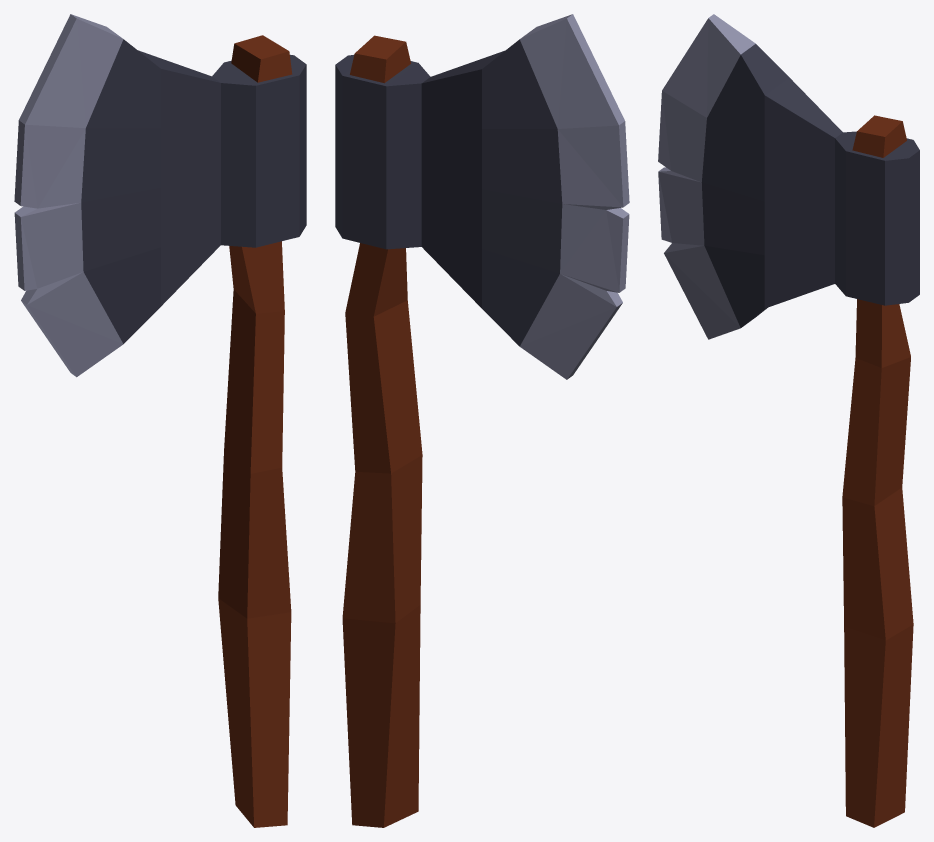
3 views of the same model, side by side, from view 1: azimuth 30°, elevation 25°; view 2: azimuth 150°, elevation 25°; view 3: azimuth 330°, elevation 25° (orthographic). The views are drawn at different scales.
Parts seen in each view (by area): view 1: Box005; view 2: Box005; view 3: Box005.
Part boxes in pixels (left/top/right/bottom): Box005: left=14, top=14, right=306, bottom=827; Box005: left=335, top=14, right=629, bottom=827; Box005: left=658, top=14, right=919, bottom=827.
Bounding box in the file's own units: 38.16 × 109 × 7.83.
